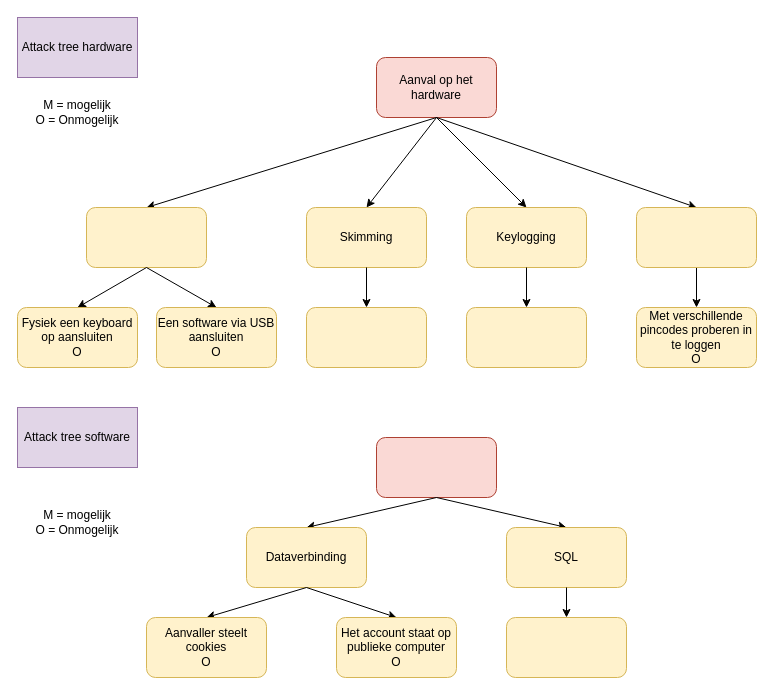
This 774x695 diagram has some shape labels left out. Here are the shapes that lost their labels. From the top down, the centre of each, then its label:
At [146,237]: "Rogue keyboard access".
At [696,237]: "Brute force".
At [366,337]: "Kopieert gegevens van de pinpas M".
At [526,337]: "Kopieert gegevens van de pincode M".
At [436,467]: "Aanval op het software".
At [566,647]: "SQL - injectie M".
